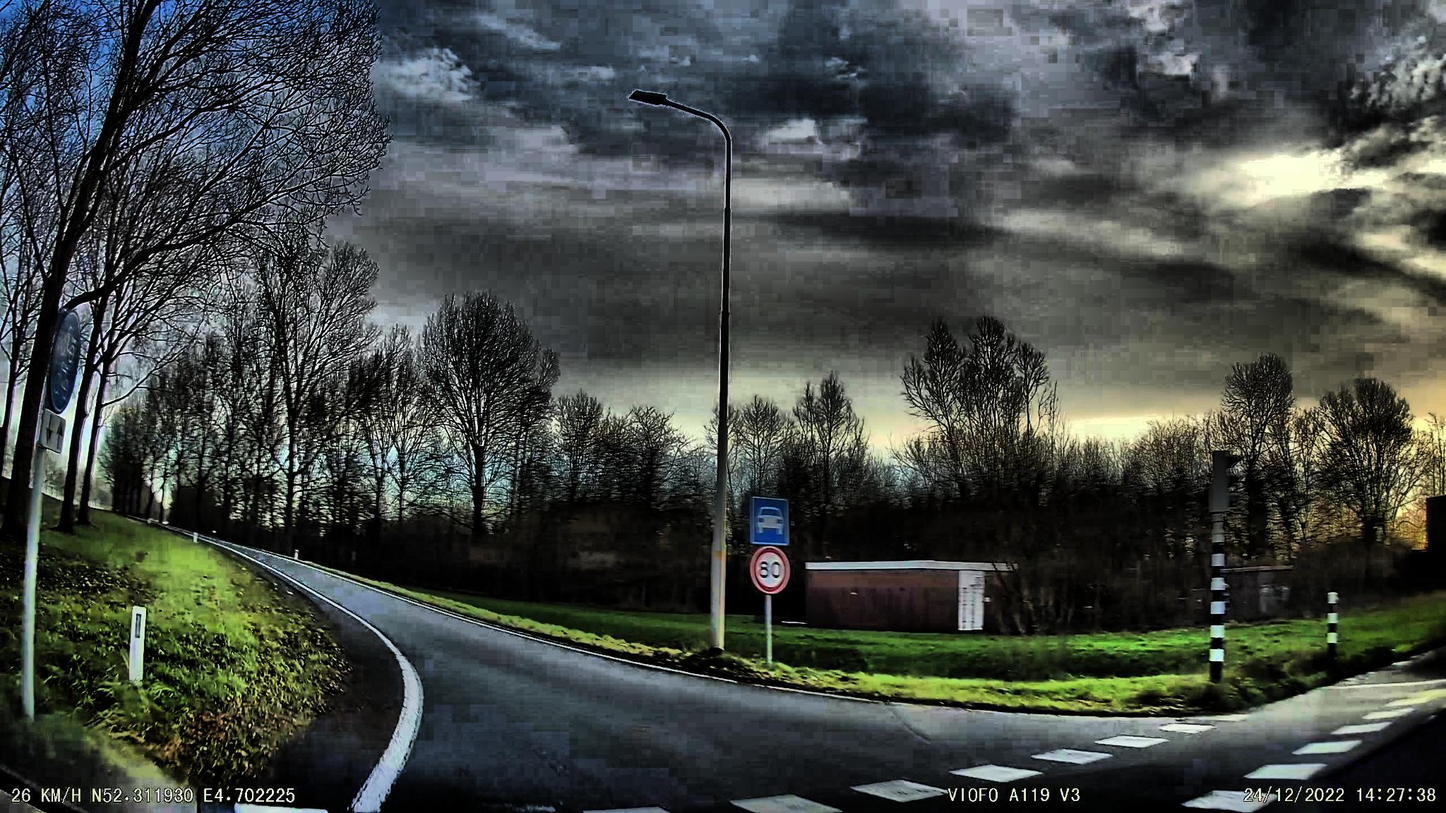Roads: (195, 536, 1446, 813)
